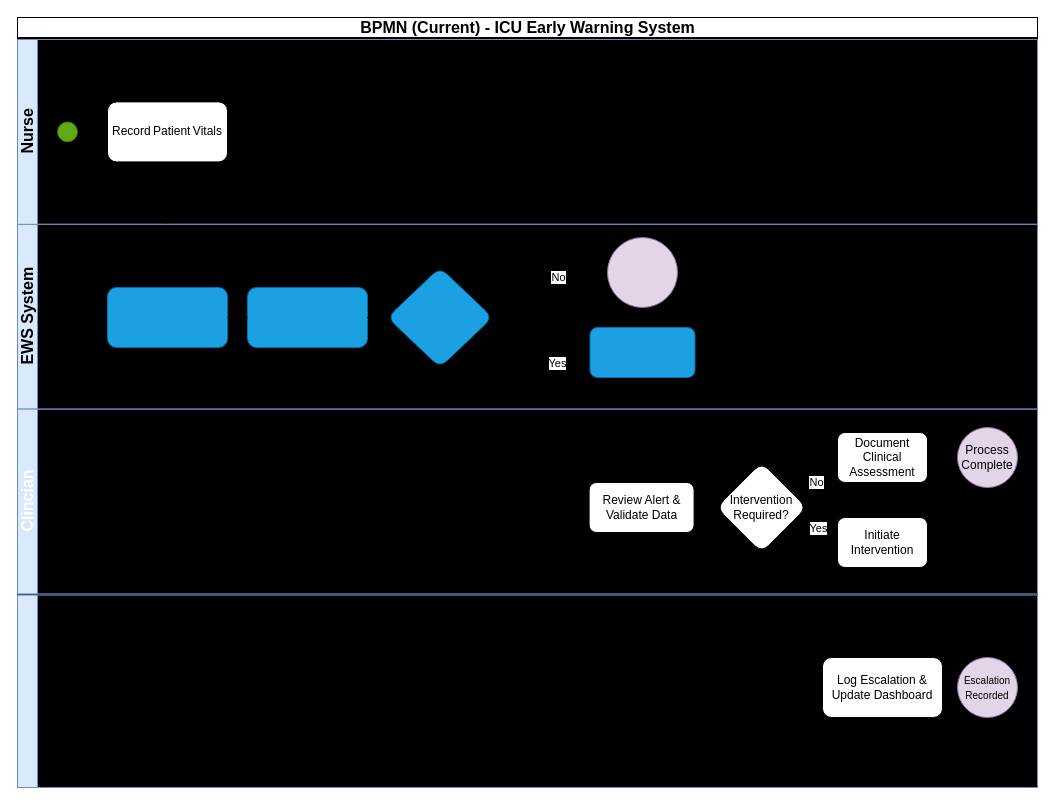
This 1055x805 diagram has some shape labels left out. The centre of each missing label's shape, as x and y in pixels:
Alert Created: point 642,352
Calculate Early Warning Score: point 307,317
ICU Coordinator: point 527,691
No Action Required: point 642,272
Receive Vitals Data: point 167,317
Score ≥ Threshold?: point 439,317
